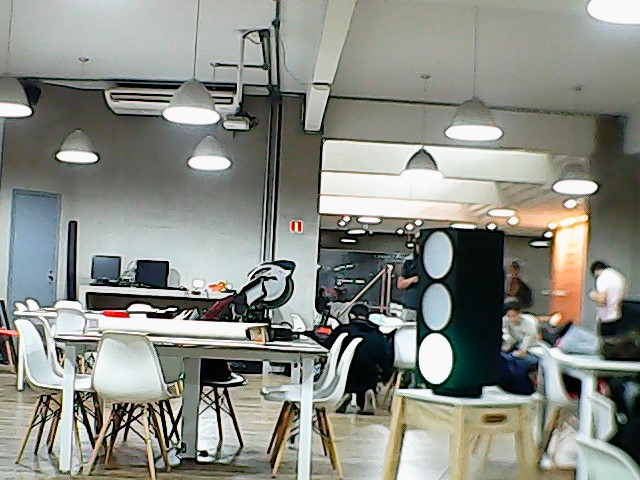verde: (407, 223, 518, 404)
